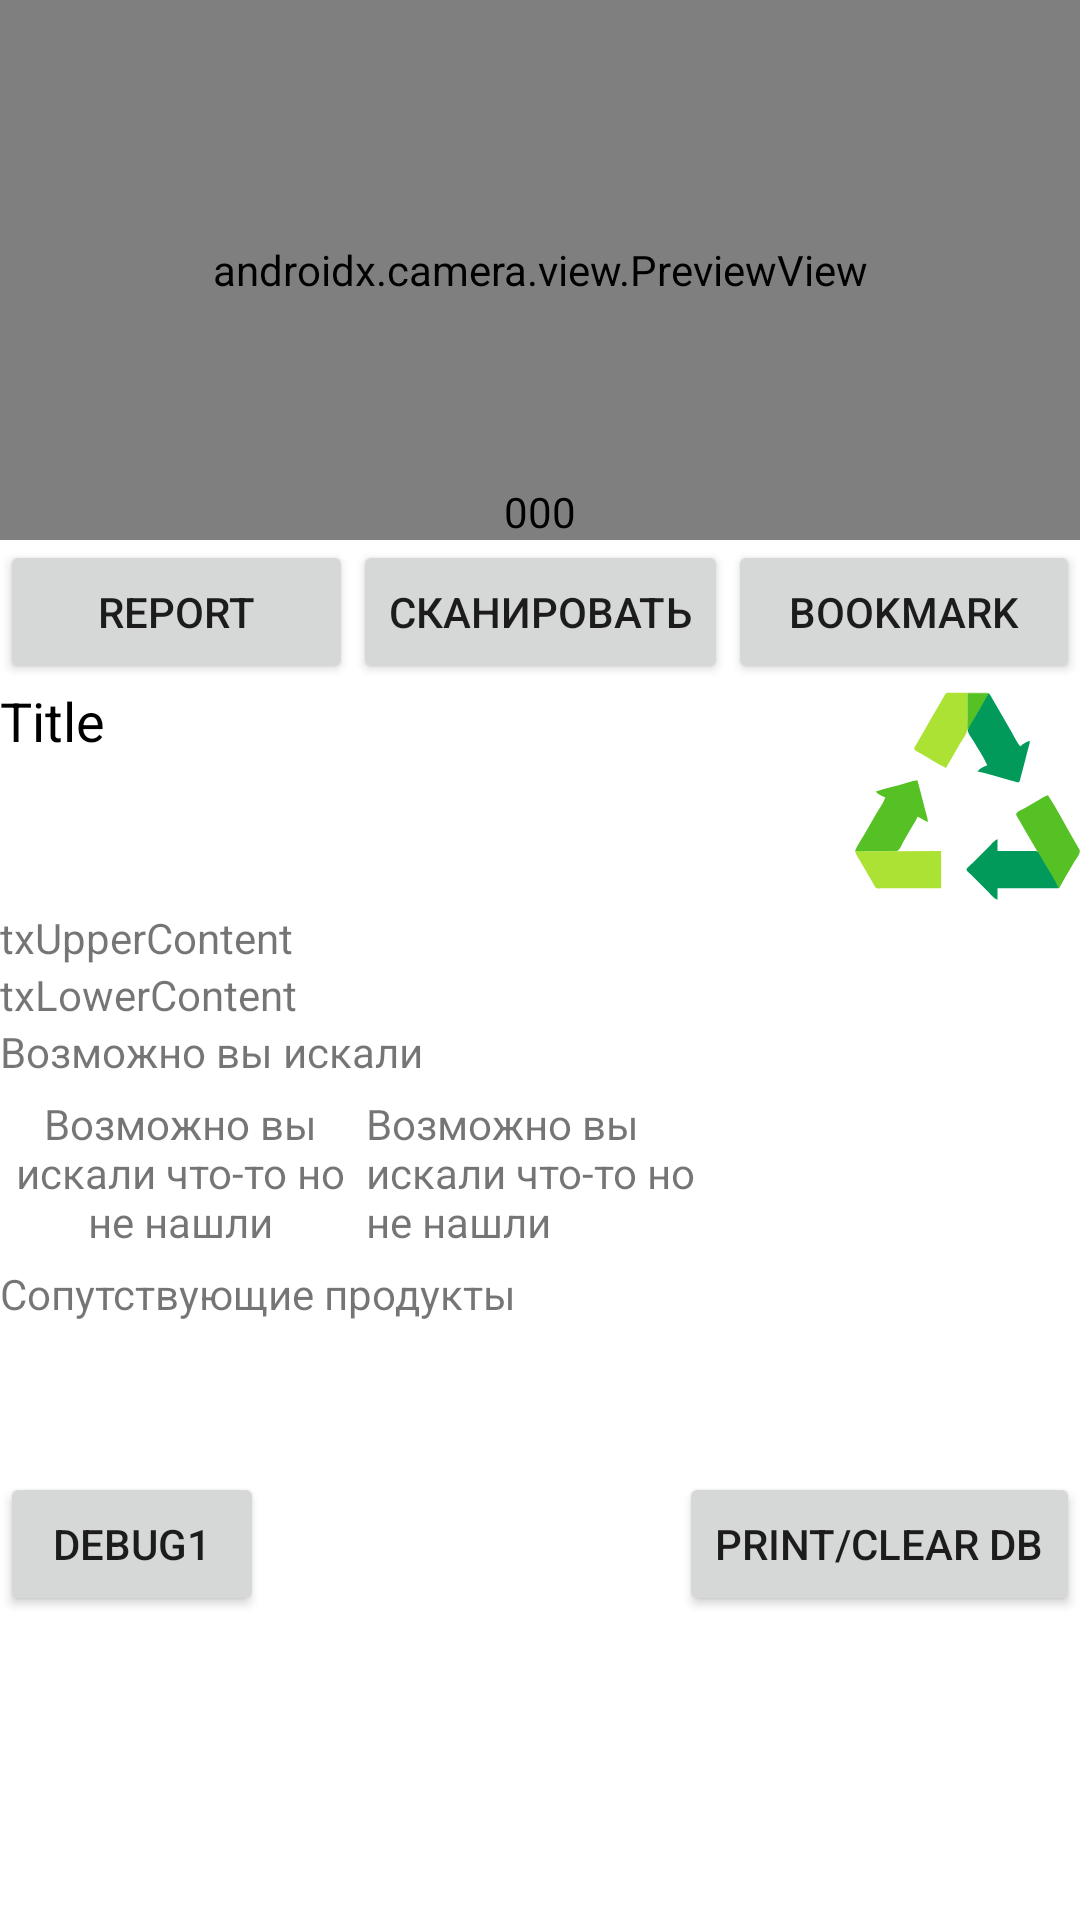

Where to tap for icons on this 1080*1920 app screen, as [x,y]:
recycle: [967,796]
